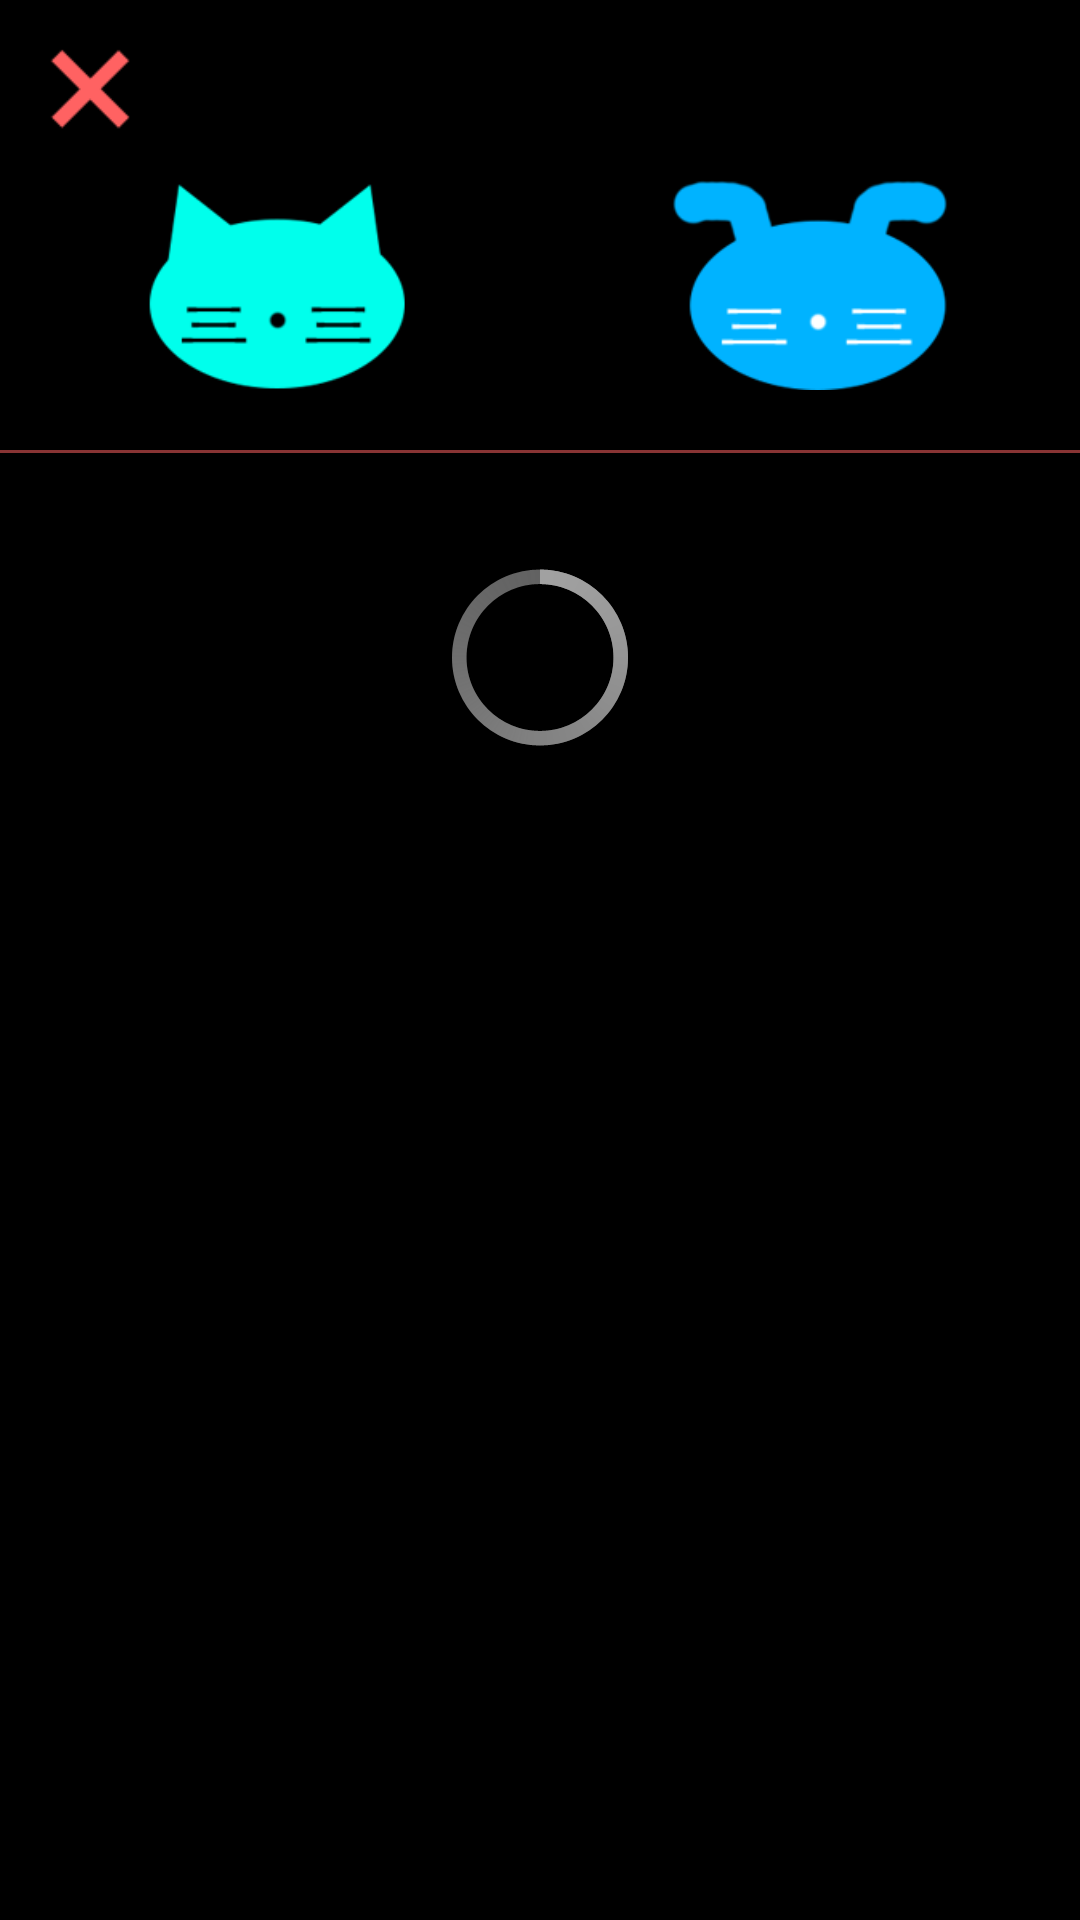

Icon bounding boxes for this 1080*1920 phone screenshot, format (x1, y1, x2, y2):
cross: (51, 50, 130, 129)
